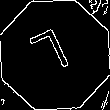L_SE: (30, 26, 80, 84)
